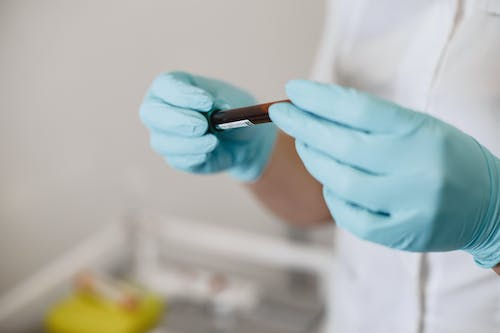blood: (210, 97, 292, 132)
